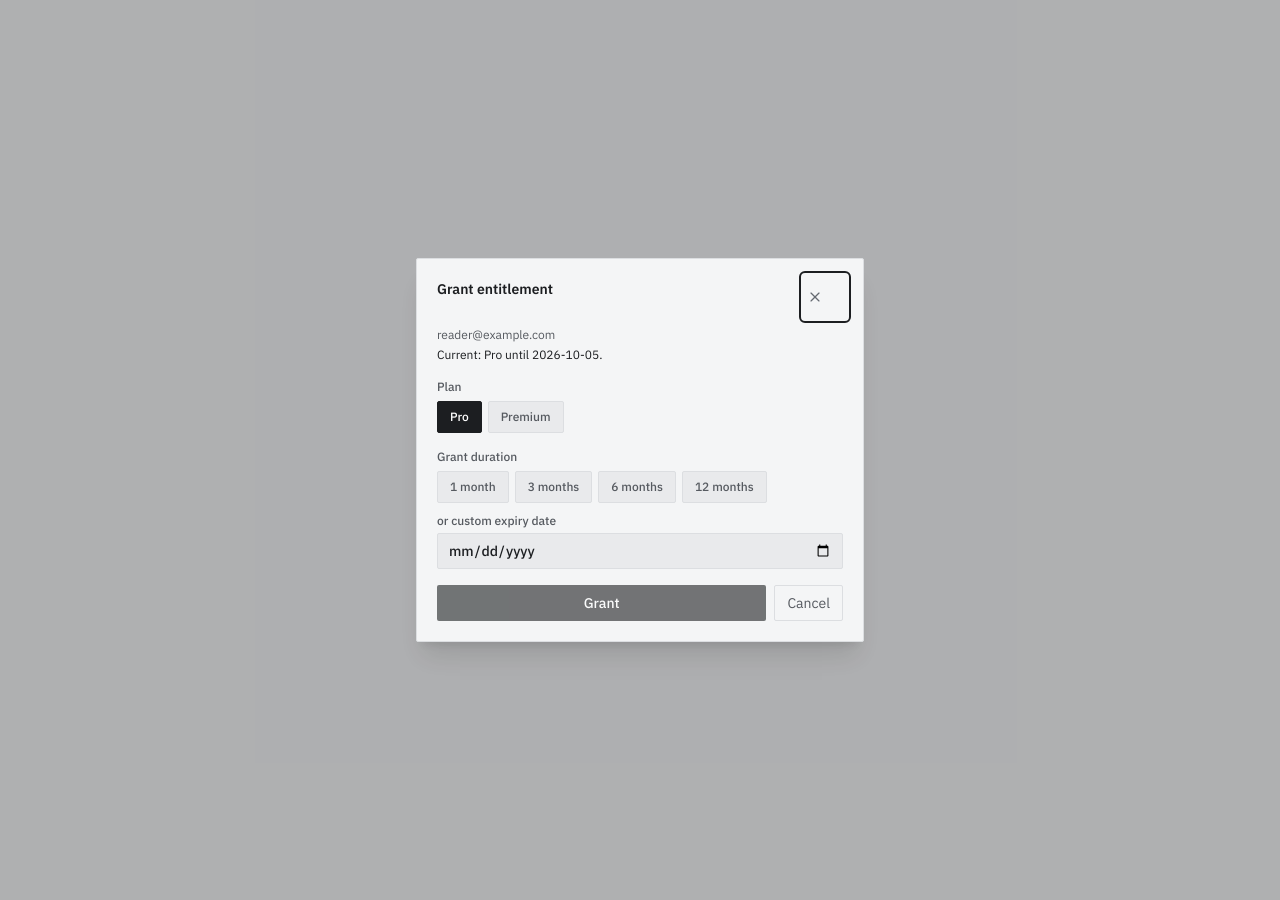
Test case: shows the server error and keeps the dialog open on failure
Click the button with test id "grant-duration-3" at (554, 487), box [515,471,592,503]
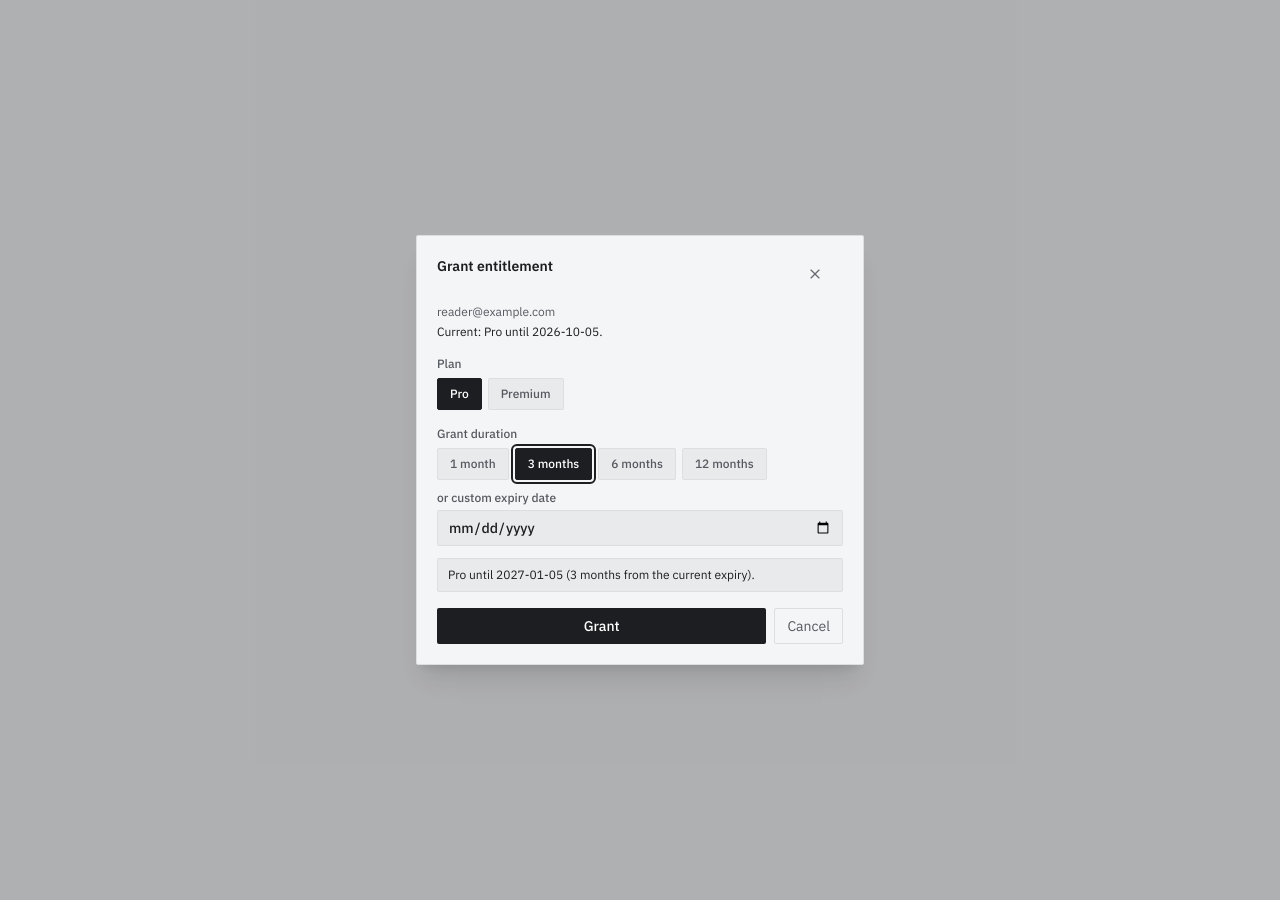
Click the button with test id "confirm-grant" at (602, 626), box [437,608,766,644]
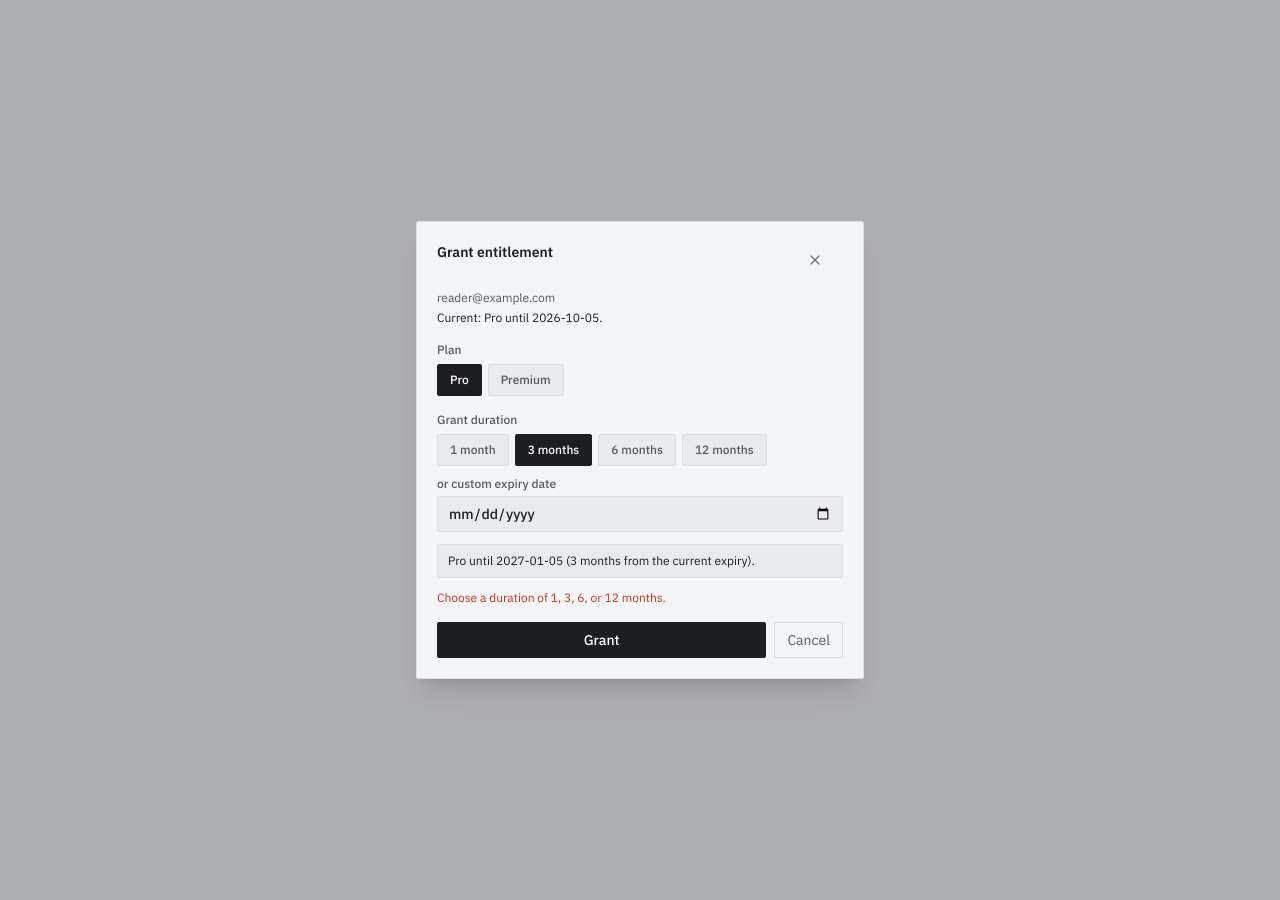
Expected: the dialog with test id "grant-dialog" is shown, [416,221,864,679]
Result: the message reads "Choose a duration of 1, 3, 6, or 12 months." at [437,590,666,605]
